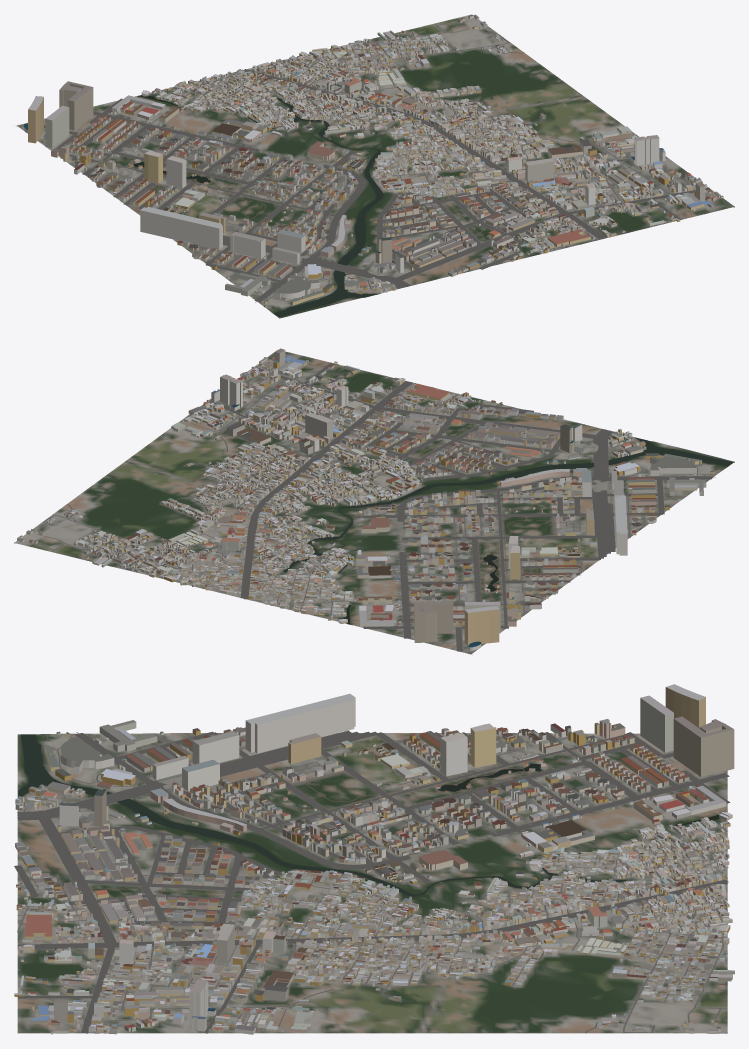
The picture shows the model from 3 angles, top to bottom: view 1: azimuth 30°, elevation 25°; view 2: azimuth 150°, elevation 25°; view 3: azimuth 270°, elevation 25°; orthographic projection. The views are drawn at different scales.
Visible parts, largest first — view 1: buildings, ground, roads, water; view 2: buildings, ground, roads, water; view 3: buildings, ground, roads, water.
Part boxes in pixels (x1,y1,x2,y2): buildings: (23,14,723,307); ground: (16,14,734,318); roads: (14,22,710,310); water: (133,95,383,316); buildings: (17,348,719,650); ground: (14,350,734,654); roads: (38,362,723,653); water: (283,437,732,624); buildings: (14,684,734,1034); ground: (17,733,727,1033); roads: (14,730,730,1033); water: (18,734,719,896).
Size of the model in its own units: 1456 by 100 by 1422.
